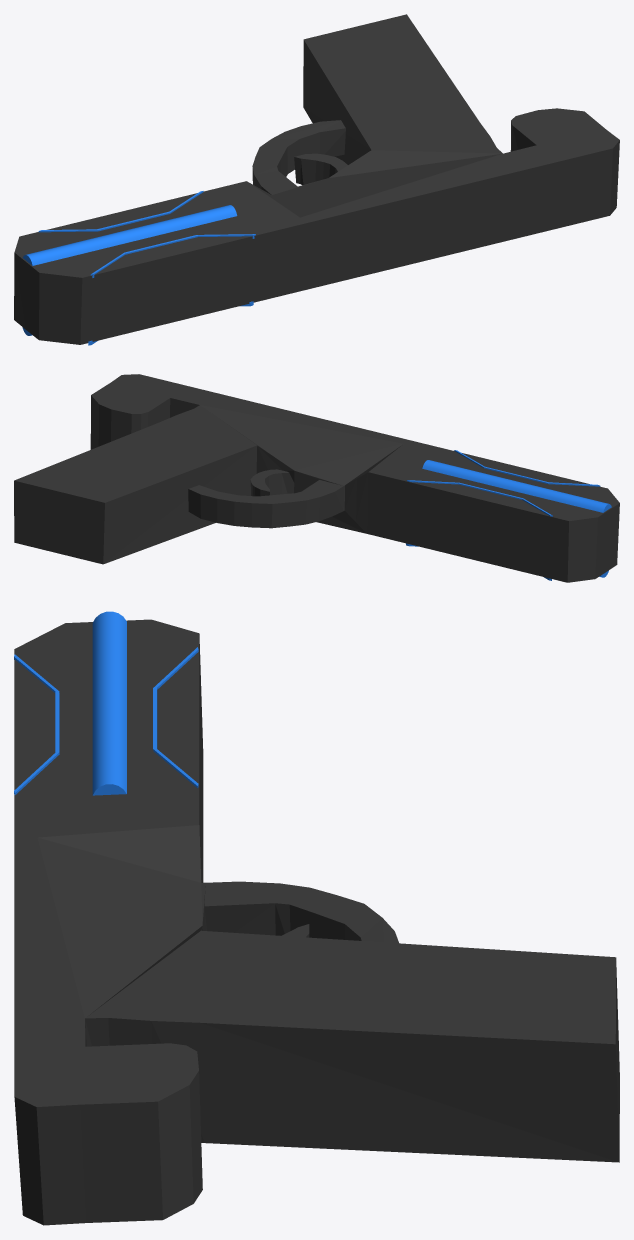
File: Pistol (1).FBX
The picture shows the model from 3 angles, top to bottom: view 1: azimuth 30°, elevation 25°; view 2: azimuth 150°, elevation 25°; view 3: azimuth 270°, elevation 25°; orthographic projection. The views are drawn at different scales.
Visible parts, largest first — view 1: Plane002, Cylinder002; view 2: Plane002, Cylinder002; view 3: Plane002, Cylinder002.
Boxes of the visible parts, x1,y1,x2,y2 form: Plane002: (14,14,619,344); Cylinder002: (23,205,237,265); Plane002: (14,374,619,582); Cylinder002: (422,460,611,512); Plane002: (14,619,619,1225); Cylinder002: (92,611,126,795).
Bounding box in the file's own units: 21.03 × 3.06 × 11.15.
